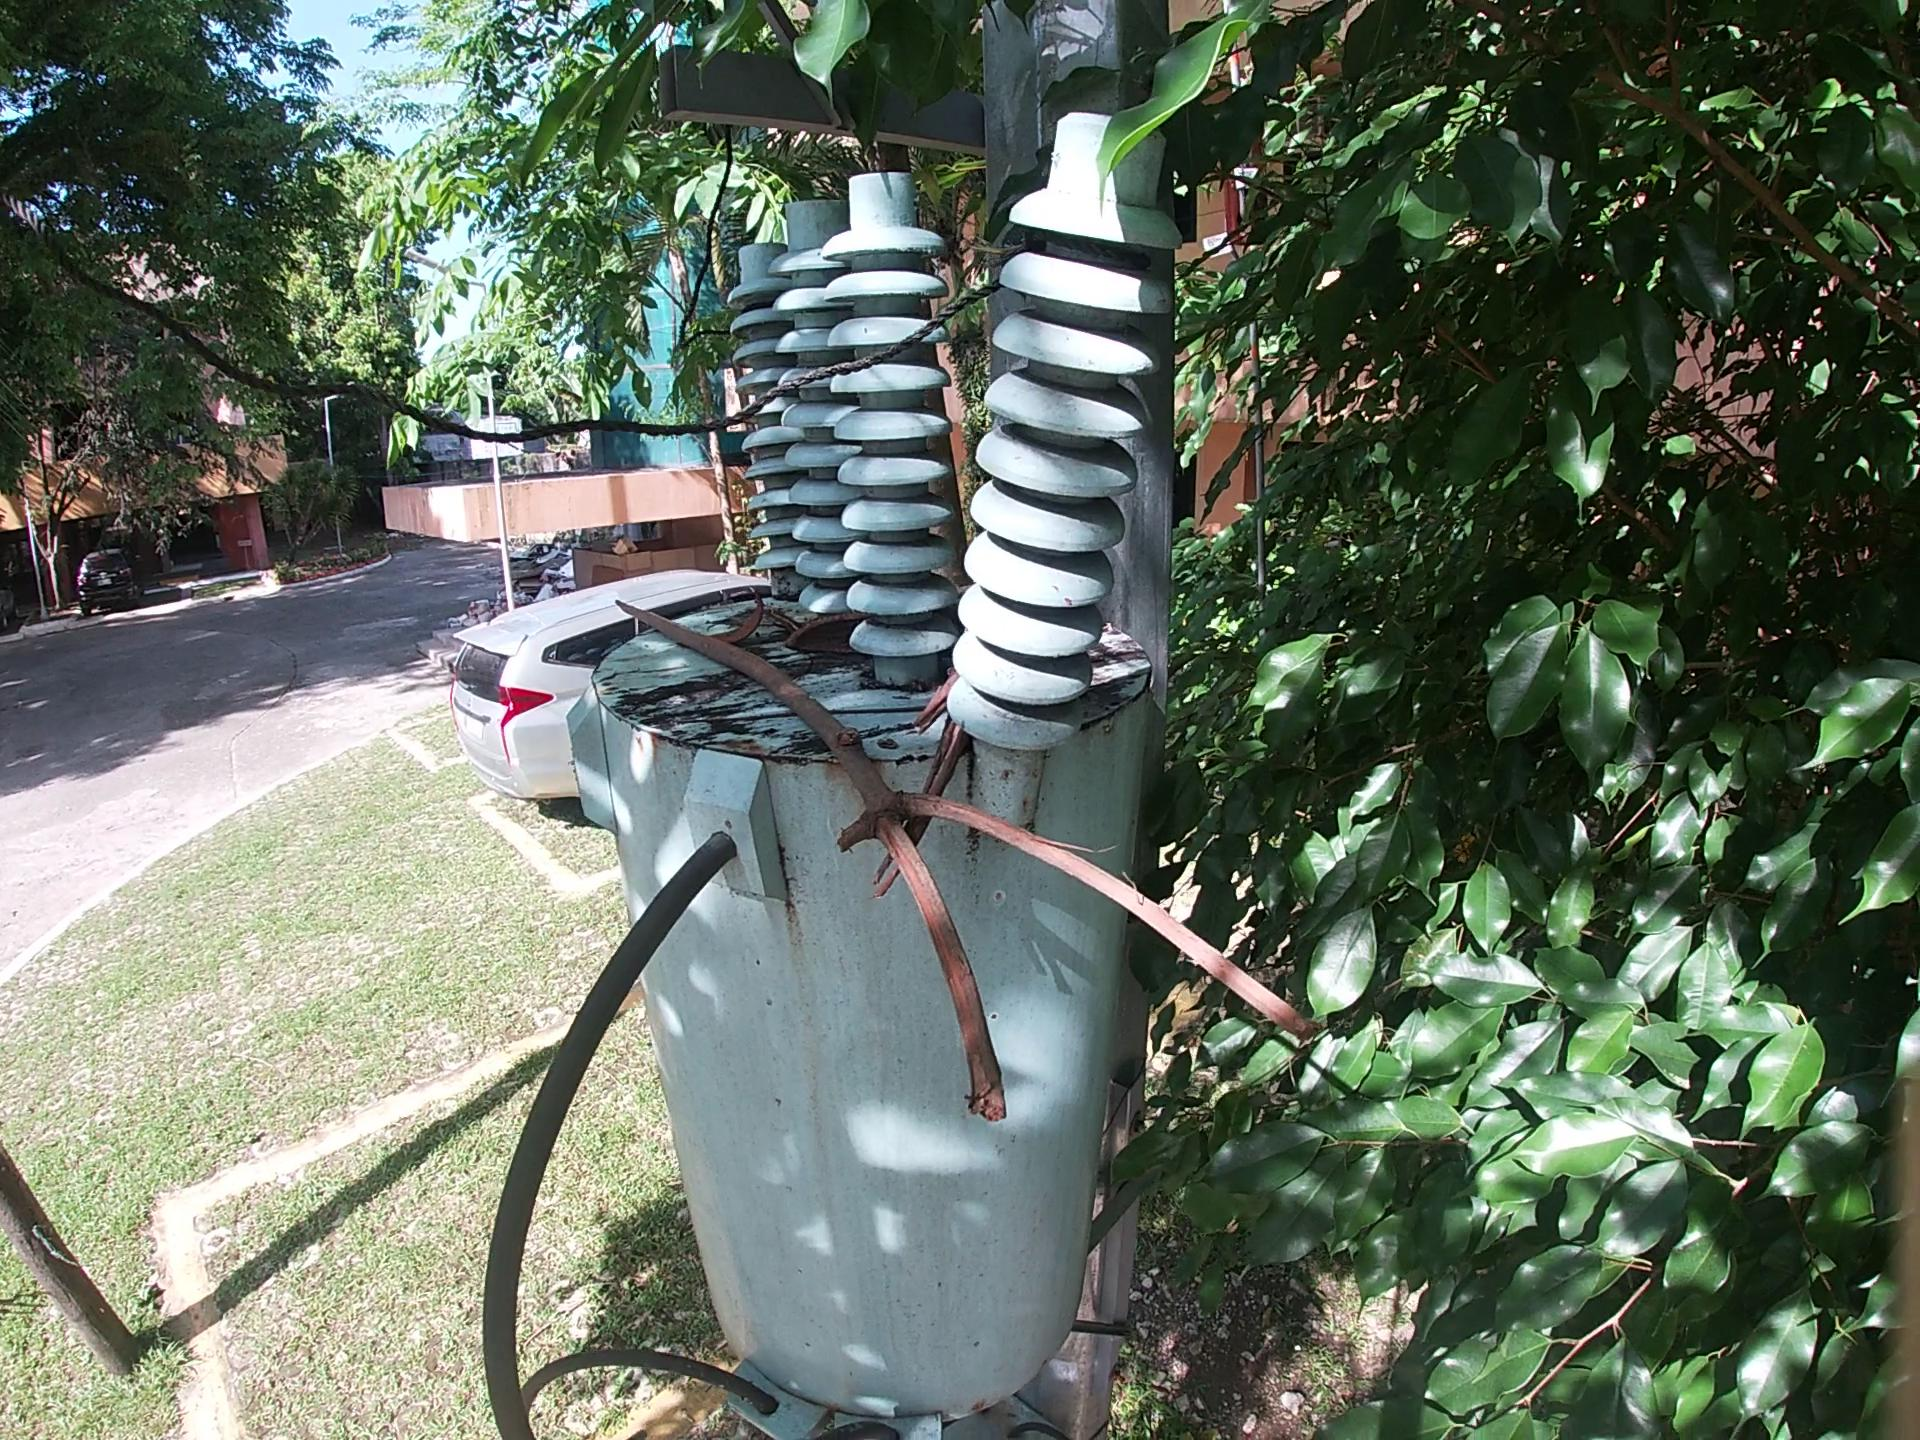mahogany fruit: (780, 613, 848, 672), (709, 588, 777, 644)
tree branch: (617, 593, 1321, 1159), (869, 729, 955, 889), (892, 681, 948, 743)
